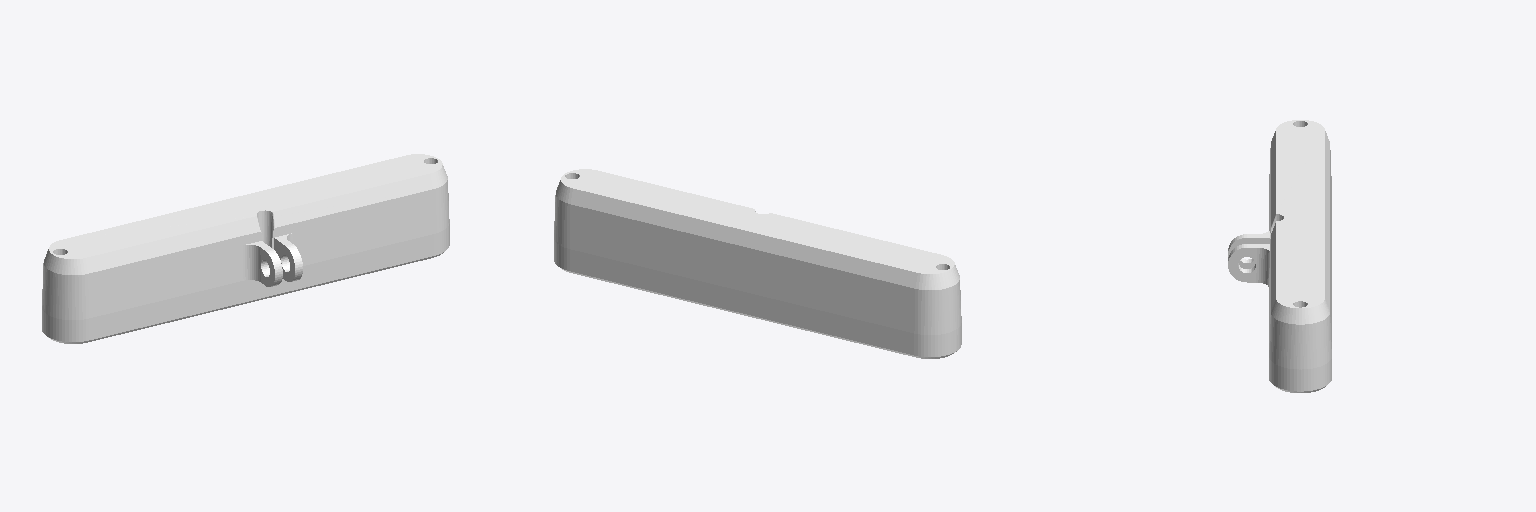
The model's file is xtion_pro_live.obj.
3 views of the same model, side by side, from view 1: azimuth 30°, elevation 25°; view 2: azimuth 150°, elevation 25°; view 3: azimuth 270°, elevation 25° (orthographic).
Parts seen in each view (by area): view 1: xtion_pro_live_Scene; view 2: xtion_pro_live_Scene; view 3: xtion_pro_live_Scene.
Part boxes in pixels (bbox=[...]): xtion_pro_live_Scene: bbox=[42, 154, 449, 343]; xtion_pro_live_Scene: bbox=[554, 169, 961, 358]; xtion_pro_live_Scene: bbox=[1228, 120, 1331, 392].
Size of the model in its own units: 0.18 by 0.0362 by 0.0406.